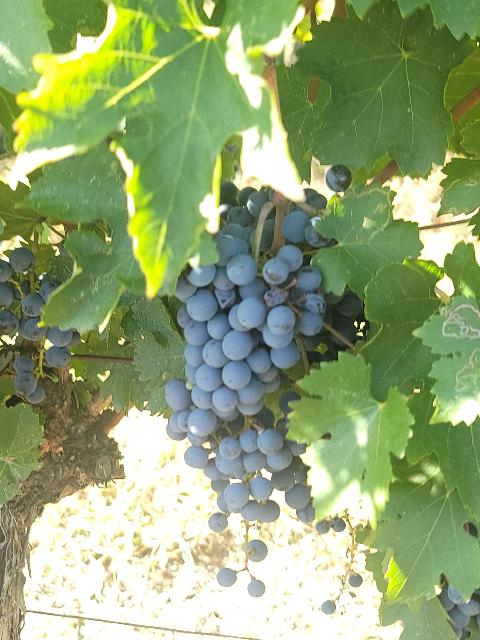grapes: (166, 225, 326, 444)
